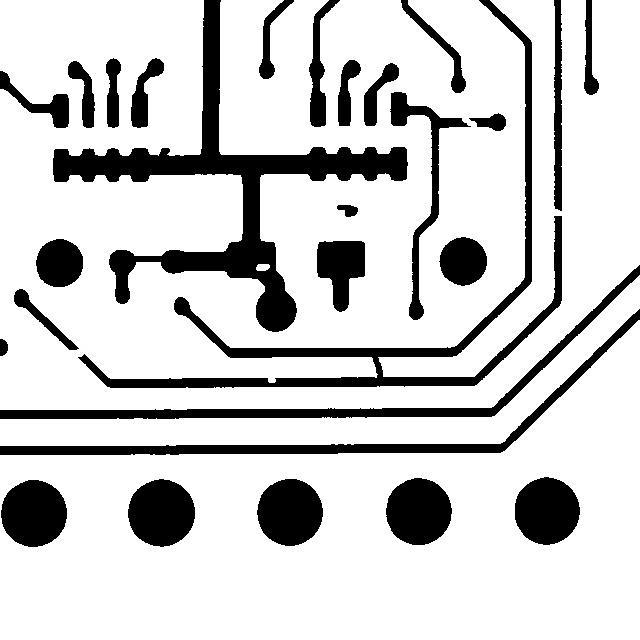copper: (327, 195, 367, 226)
mousebite: (258, 367, 285, 392)
open: (451, 102, 486, 142), (58, 339, 94, 366), (540, 199, 572, 225)
pin-hole: (246, 254, 279, 280)
short: (361, 339, 392, 388), (124, 246, 174, 271)
spur: (149, 138, 179, 169)
